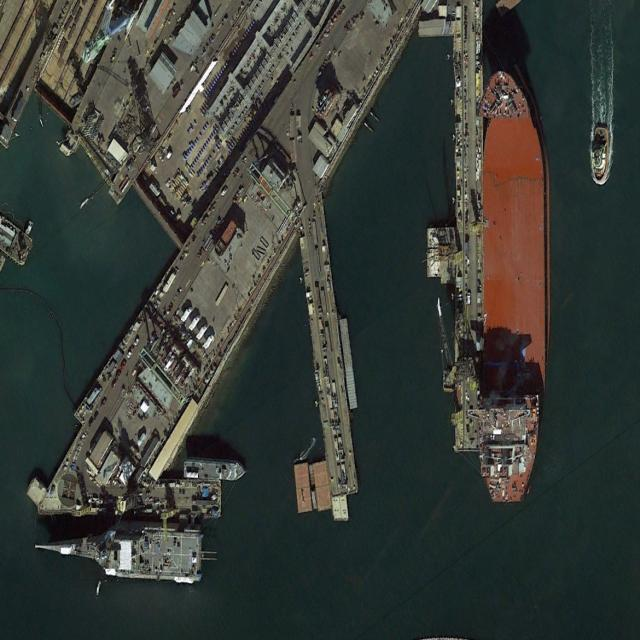Cargo: (476, 68, 550, 503)
Hovercraft: (594, 123, 609, 183)
Other Ship: (34, 517, 203, 581), (182, 455, 246, 482)
